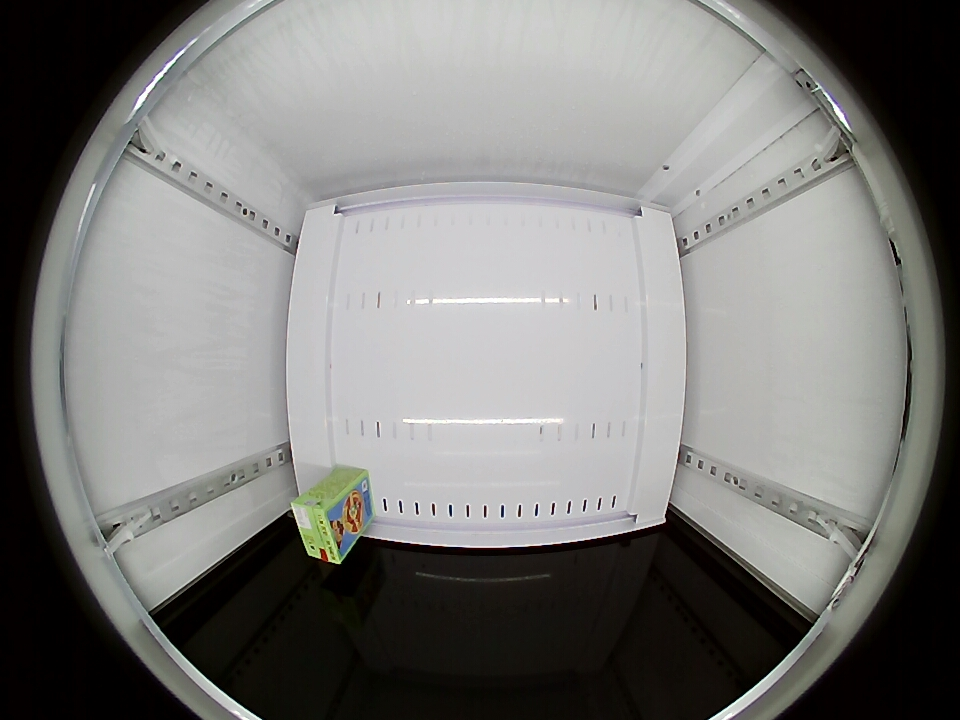wanglaoji: (290, 491, 351, 564)
